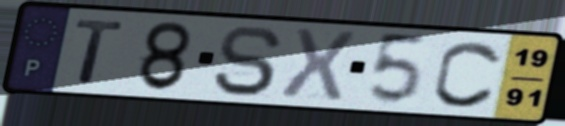5: (364, 30, 436, 109)
8: (136, 19, 195, 93)
C: (430, 38, 506, 110)
S: (209, 24, 286, 99)
T: (72, 16, 128, 86)
X: (276, 25, 359, 103)
